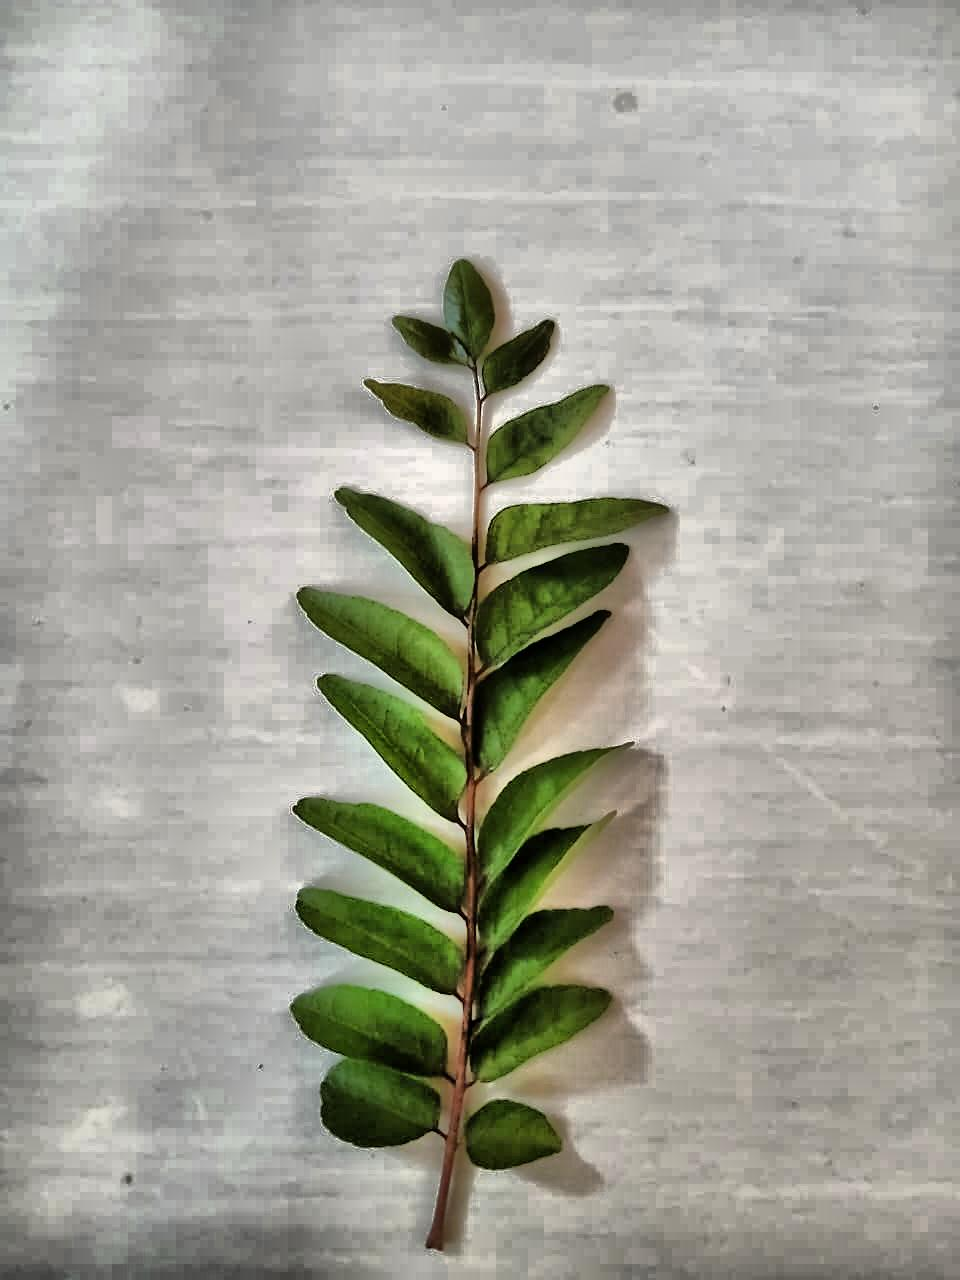daun kari: (294, 259, 668, 1249)
